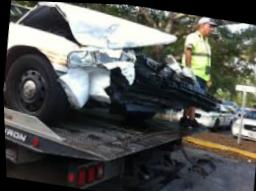Bonnet: (17, 1, 180, 54)
Bumper: (59, 47, 210, 112)
